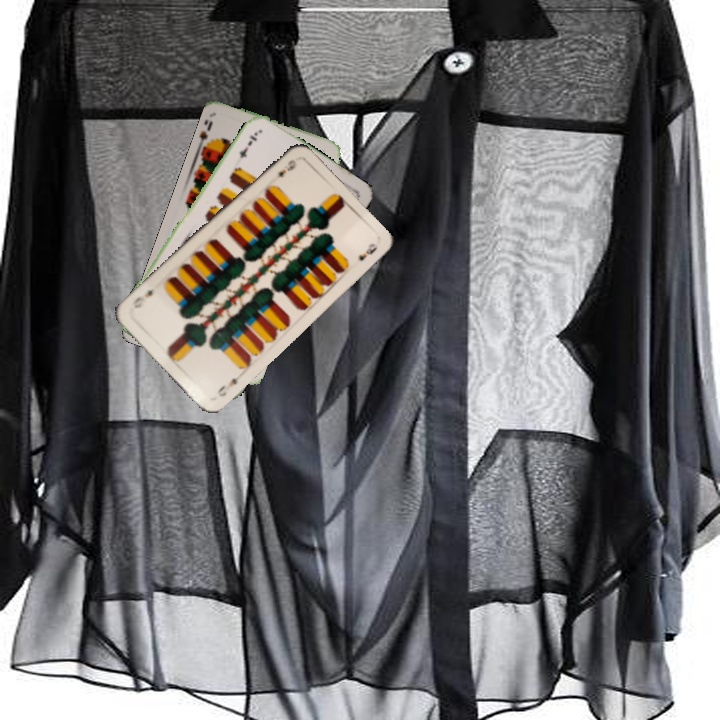E7: (235, 128, 261, 161)
E9: (213, 370, 244, 399), (274, 156, 299, 180)
S9: (194, 116, 215, 151)
